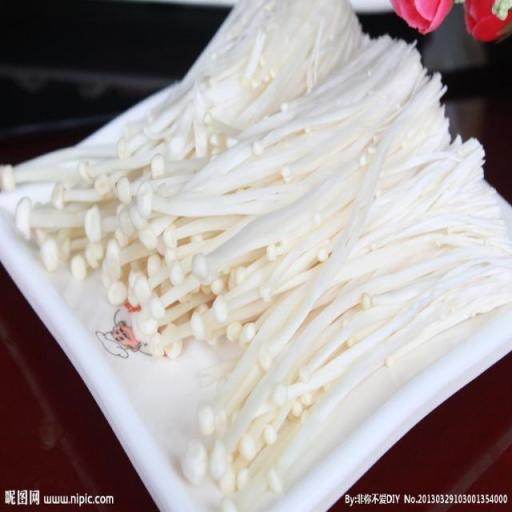Enoki Mushroom: (2, 2, 512, 512)
